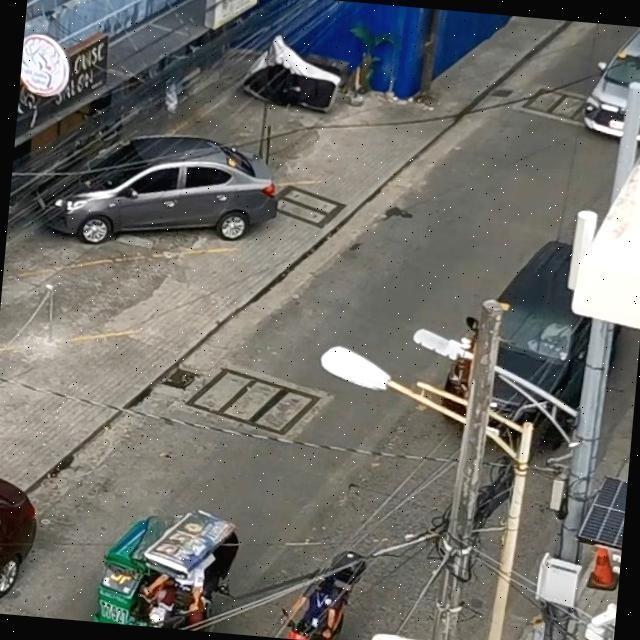Motorcycle: (262, 530, 359, 640)
Tricycle: (57, 472, 253, 634)
